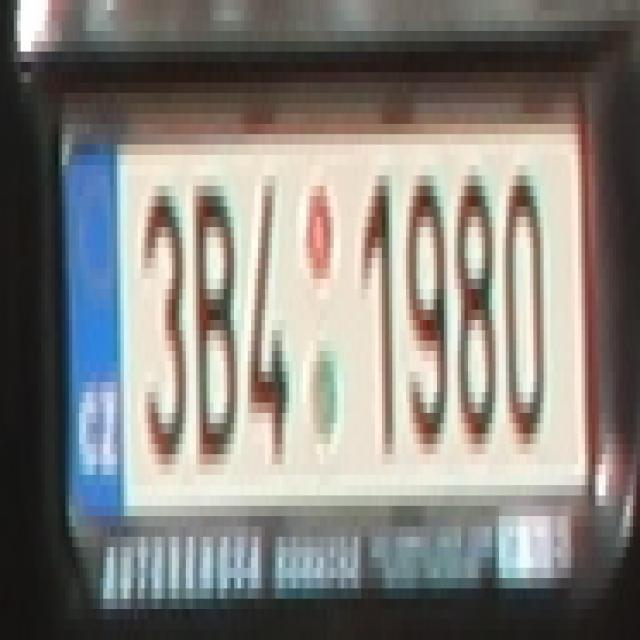0: (502, 155, 540, 433)
1: (364, 165, 396, 444)
3: (138, 176, 182, 454)
4: (248, 165, 289, 444)
8: (458, 165, 499, 444)
9: (402, 165, 450, 444)
B: (193, 186, 241, 464)
